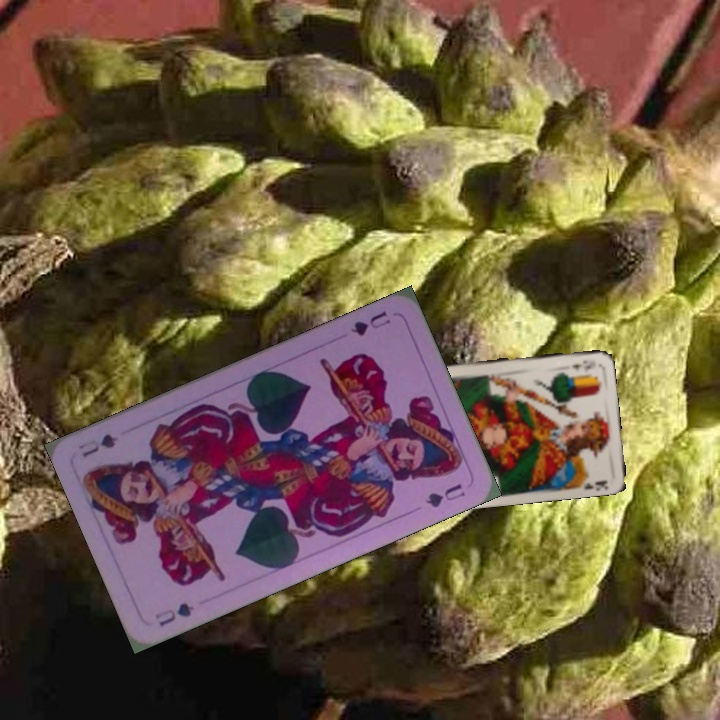EK: (568, 356, 598, 372)
GU: (346, 307, 393, 339), (151, 598, 197, 629)
